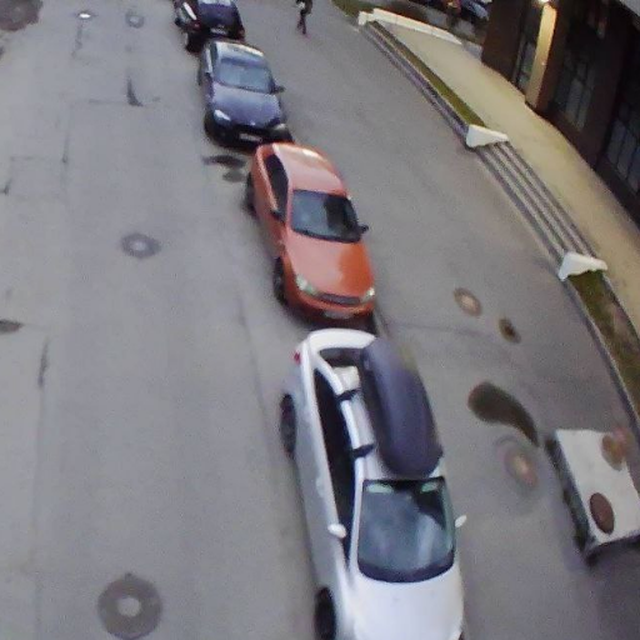car: (275, 329, 465, 637), (242, 140, 377, 324), (196, 38, 289, 147), (177, 1, 245, 53)
